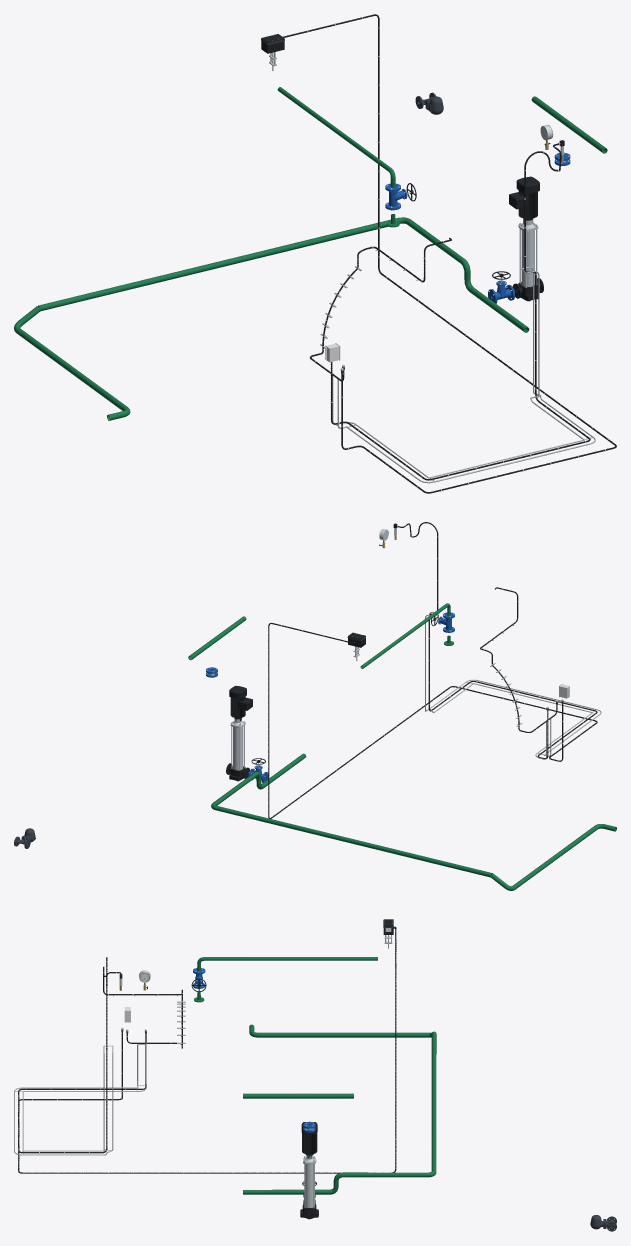
3 renders of one model, top to bottom at view 1: azimuth 30°, elevation 25°; view 2: azimuth 150°, elevation 25°; view 3: azimuth 270°, elevation 25°, orthographic. The views are drawn at different scales.
Parts seen in each view (by area): view 1: suction_common / green, mod_direct_drive_cable / black, cables / zinc, wiring_pressure_transmitter / black, deaerator_feed / green, pump_2 CAD solid 15, direct_inlet / green, wiring_low_level_2 / black, pump_2 CAD solid 2; view 2: suction_common / green, mod_direct_drive_cable / black, cables / zinc, wiring_pressure_transmitter / black, deaerator_feed / green, pump_2 CAD solid 15; view 3: suction_common / green, cables / zinc, mod_direct_drive_cable / black, deaerator_feed / green, wiring_pressure_transmitter / black, direct_inlet / green, pump_delivery / green, pump_2 CAD solid 2.
Part boxes in pixels (box(x1,y1,x2,y2)): suction_common / green: box(37, 217, 529, 332); mod_direct_drive_cable / black: box(282, 14, 616, 493); cables / zinc: box(332, 266, 595, 483); wiring_pressure_transmitter / black: box(330, 143, 590, 480); deaerator_feed / green: box(14, 306, 130, 420); pump_2 CAD solid 15: box(509, 176, 539, 219); direct_inlet / green: box(277, 87, 395, 187); wiring_low_level_2 / black: box(309, 237, 451, 381); pump_2 CAD solid 2: box(521, 230, 534, 286); suction_common / green: box(211, 753, 492, 877); mod_direct_drive_cable / black: box(268, 623, 597, 818); cables / zinc: box(425, 611, 601, 759); wiring_pressure_transmitter / black: box(398, 522, 597, 758); deaerator_feed / green: box(490, 824, 616, 890); pump_2 CAD solid 15: box(229, 685, 252, 718); suction_common / green: box(243, 1032, 436, 1194); cables / zinc: box(14, 1044, 146, 1155); mod_direct_drive_cable / black: box(18, 927, 396, 1173); deaerator_feed / green: box(249, 1024, 435, 1037); wiring_pressure_transmitter / black: box(18, 957, 146, 1153); direct_inlet / green: box(197, 957, 377, 970); pump_delivery / green: box(243, 1093, 353, 1098); pump_2 CAD solid 2: box(305, 1164, 314, 1207).
Bounding box in the file's own units: 5.67 × 2.66 × 6.78.
